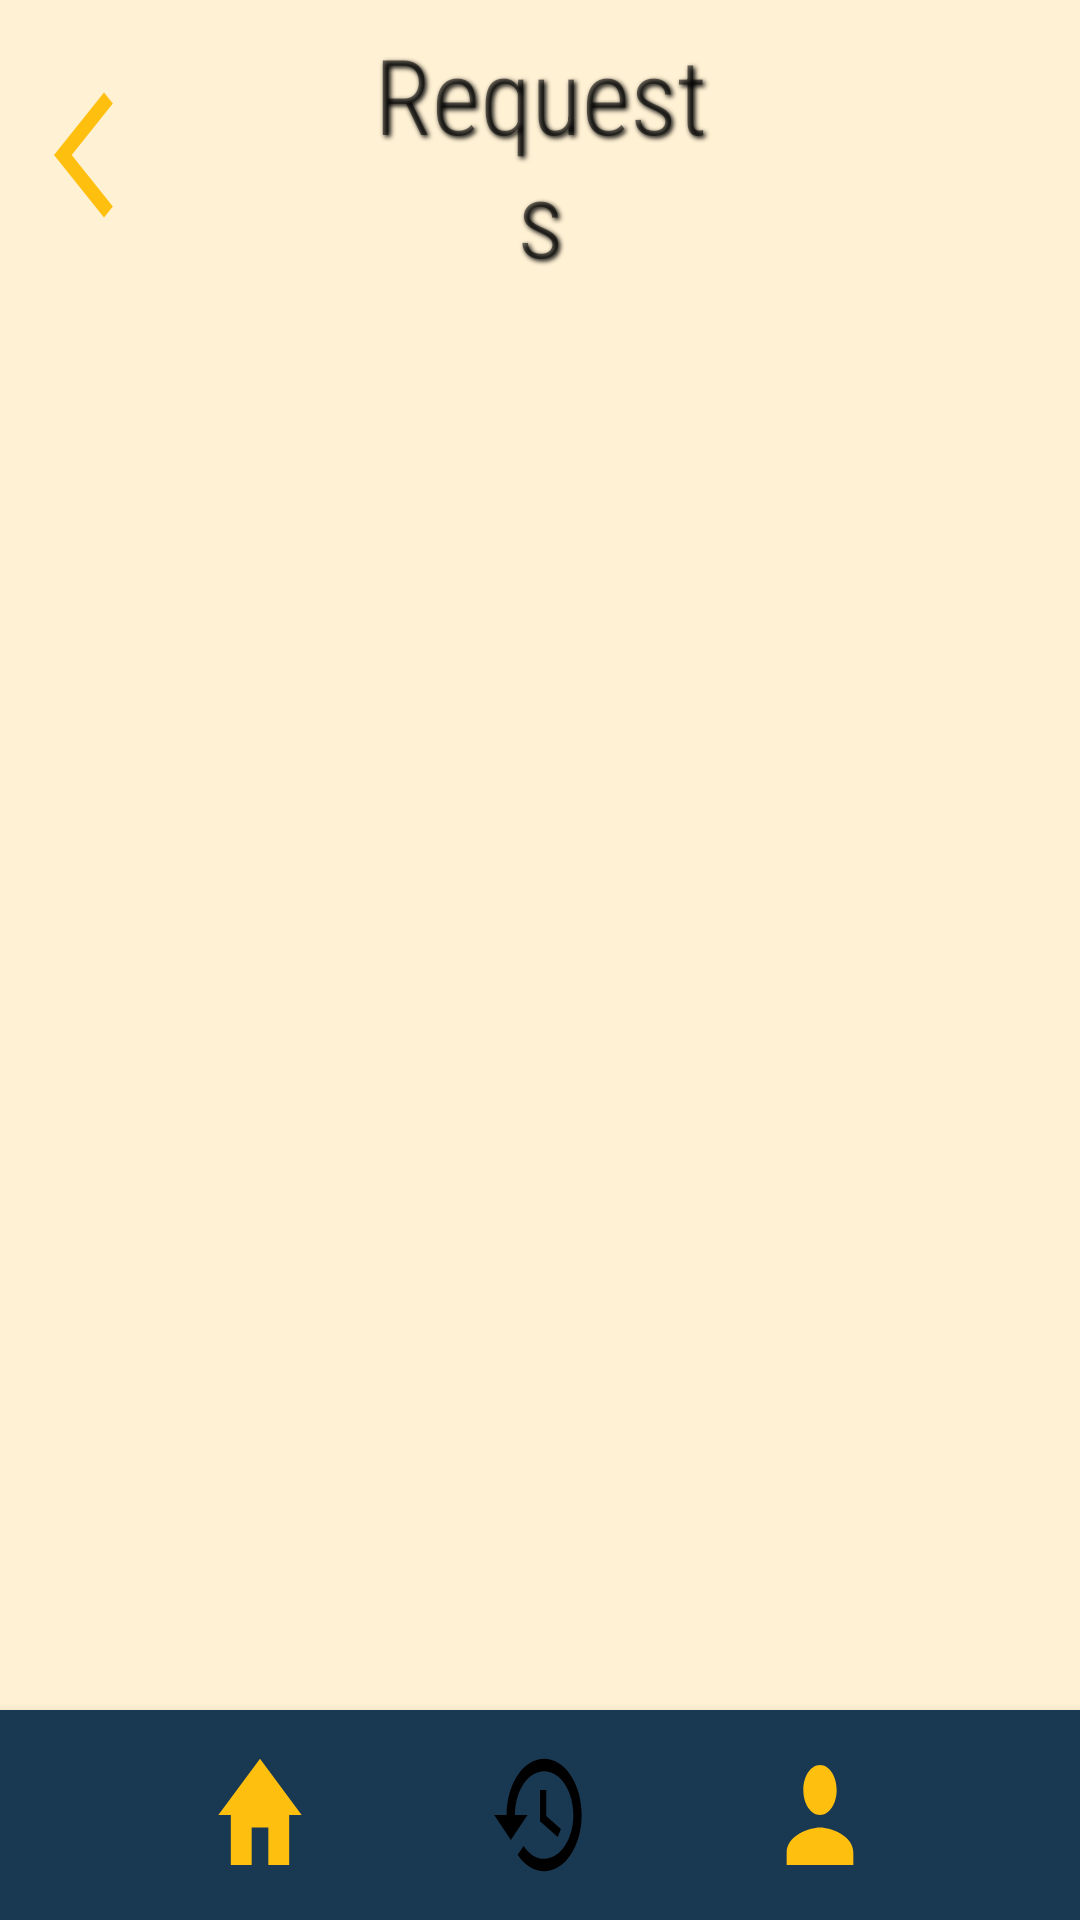

Named icons in this screenshot (1080w x 1920h) and their bounding boxes, box(x1, y1, x2, y2):
go back: box(54, 93, 113, 217)
history: box(494, 1759, 582, 1871)
home: box(218, 1759, 302, 1865)
profile: box(786, 1765, 854, 1865)
